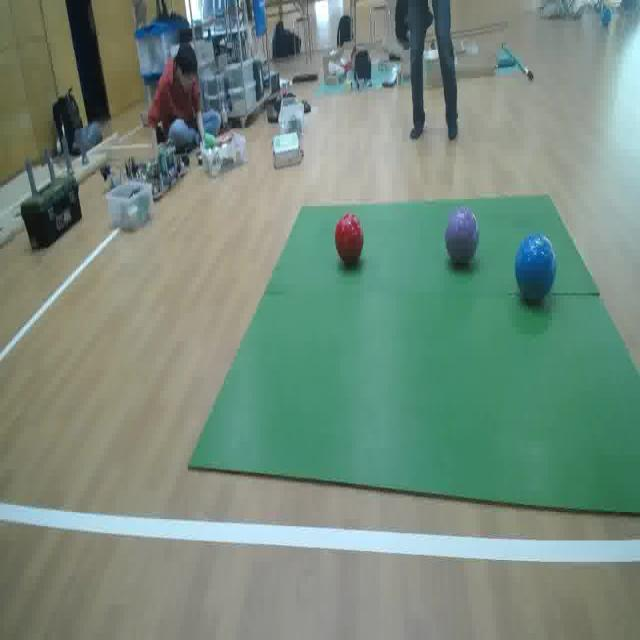blue_ball: (515, 233, 557, 301)
purple_ball: (445, 206, 478, 266)
red_ball: (335, 210, 364, 266)
